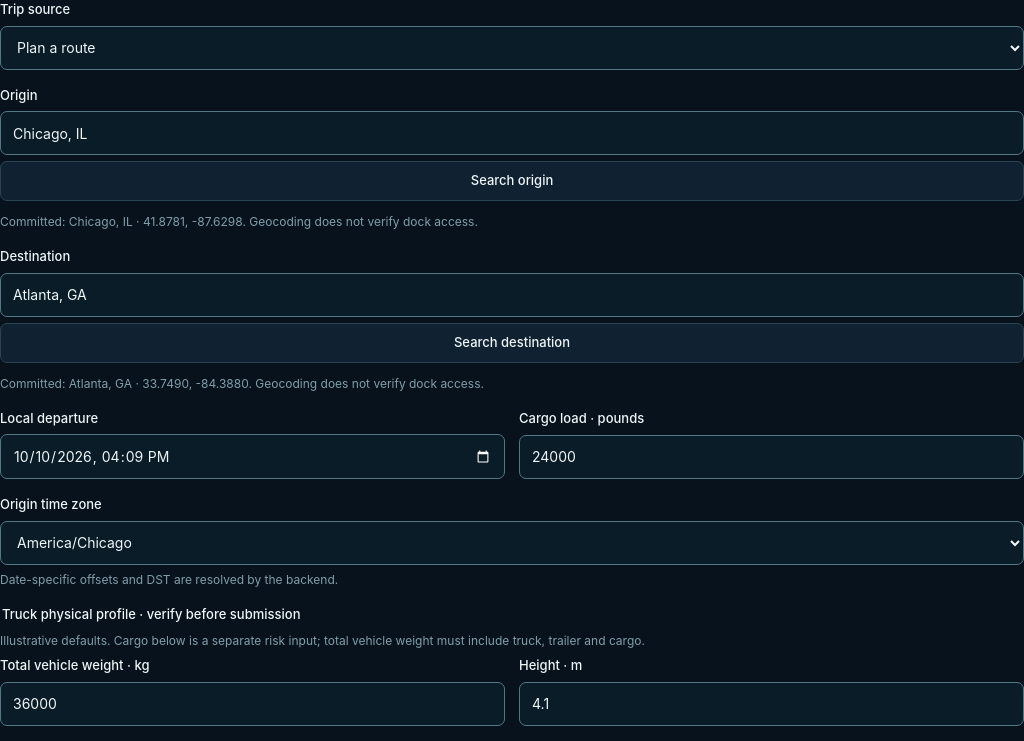
Test case: trip input contract › offers the real planning workflow first while restoring fixed public-example parameters
Check: the dropdown labelled "Trip source" shows "Plan a route", box left=0, top=26, right=1023, bottom=70
Replace the text in the number field labelled "Cargo load · pounds" with "40000.01": (772, 457) left=519, top=434, right=1023, bottom=479
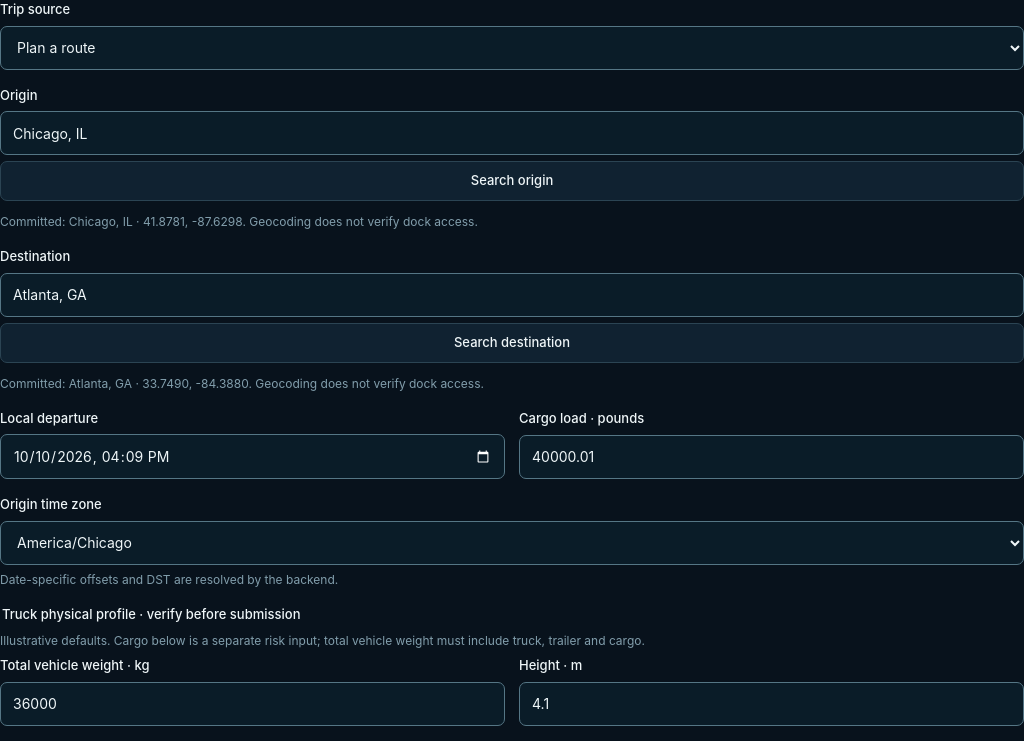
Select "Built-in example trip" in the dropdown labelled "Trip source": (512, 48) left=0, top=26, right=1023, bottom=70
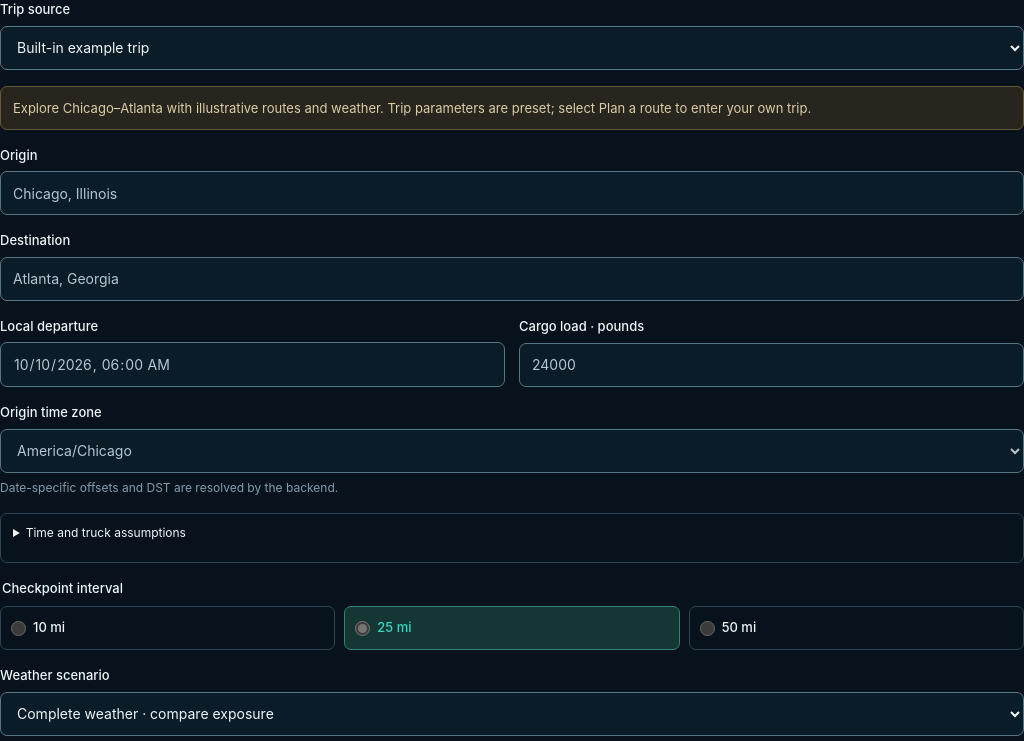
Check: the number field labelled "Cargo load · pounds" holds "24000", box left=519, top=343, right=1023, bottom=387
Check: the radio button labelled "10 mi" is disabled, box left=11, top=621, right=26, bottom=636
Check: the dropdown labelled "Weather scenario" is enabled, box left=0, top=692, right=1023, bottom=736
